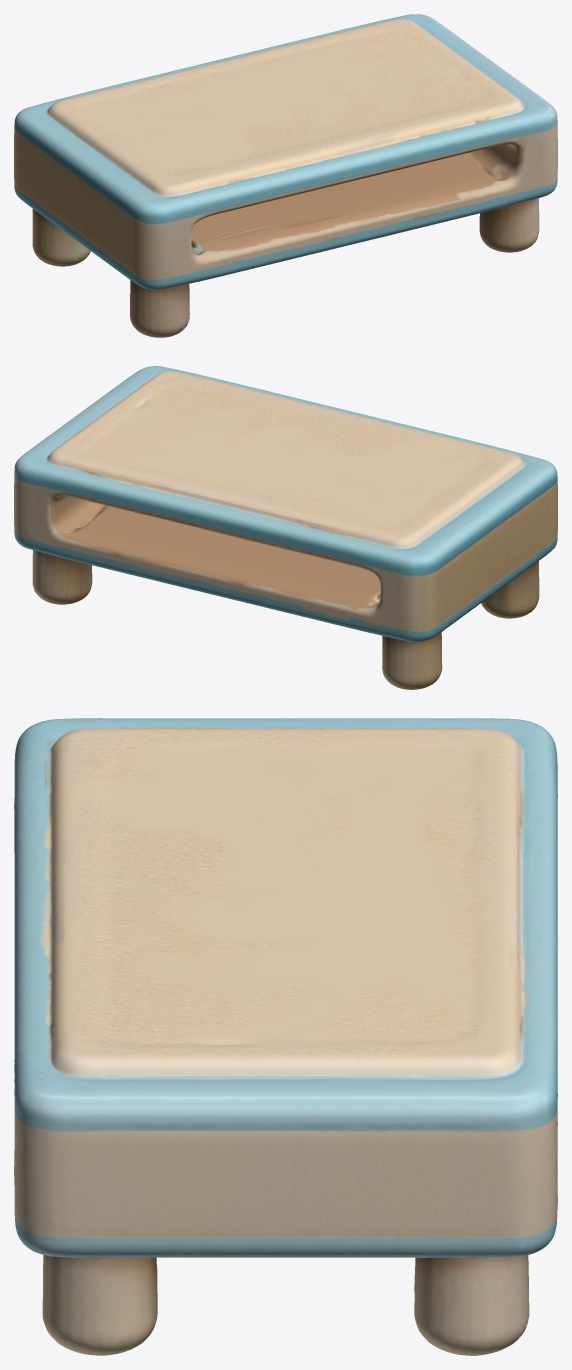
File: Online_Stand.fbx
The picture shows the model from 3 angles, top to bottom: view 1: azimuth 30°, elevation 25°; view 2: azimuth 150°, elevation 25°; view 3: azimuth 270°, elevation 25°; orthographic projection. The views are drawn at different scales.
Parts seen in each view (by area): view 1: texture_mapping; view 2: texture_mapping; view 3: texture_mapping.
Boxes of the visible parts, <box> form: texture_mapping: <box>14,14,557,337</box>; texture_mapping: <box>14,366,557,689</box>; texture_mapping: <box>14,718,557,1355</box>.
Bounding box in the file's own units: 0.9993 × 0.5861 × 0.3416.
1 material, 1 textured.
